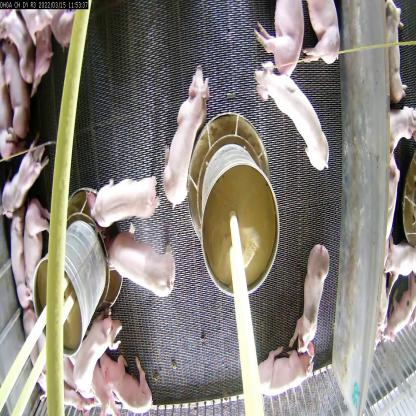Pig: (158, 64, 216, 208), (260, 62, 334, 169), (241, 342, 322, 405), (91, 164, 164, 231), (63, 318, 116, 398), (106, 245, 178, 299), (0, 132, 46, 210), (293, 0, 345, 68), (260, 0, 304, 70), (26, 6, 64, 80), (298, 235, 326, 333), (20, 200, 56, 275), (96, 358, 150, 407), (2, 47, 26, 122)
